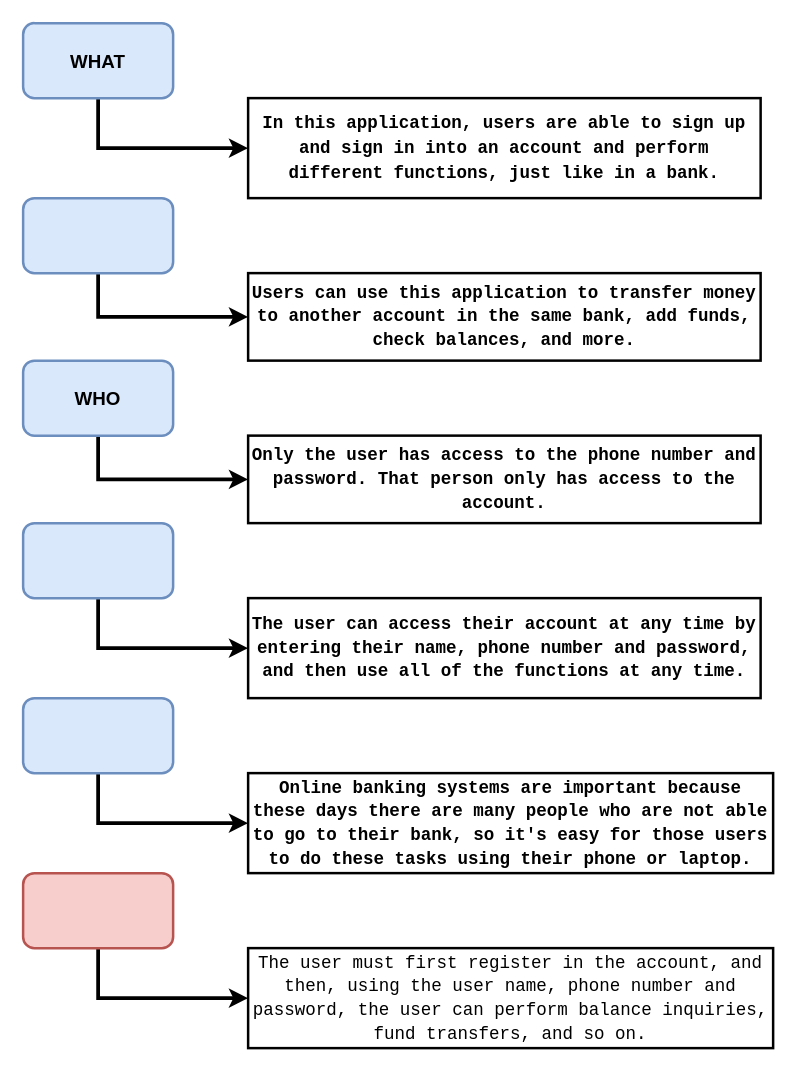
Image size: 795x1070. Some labels were removed from this diagram. The shapes that lost their labels are listed below. From the top down, each one's centre as x and y in pixels, then its label:
point 97,235: WHERE
point 97,560: WHEN
point 97,735: WHY
point 97,910: HOW
